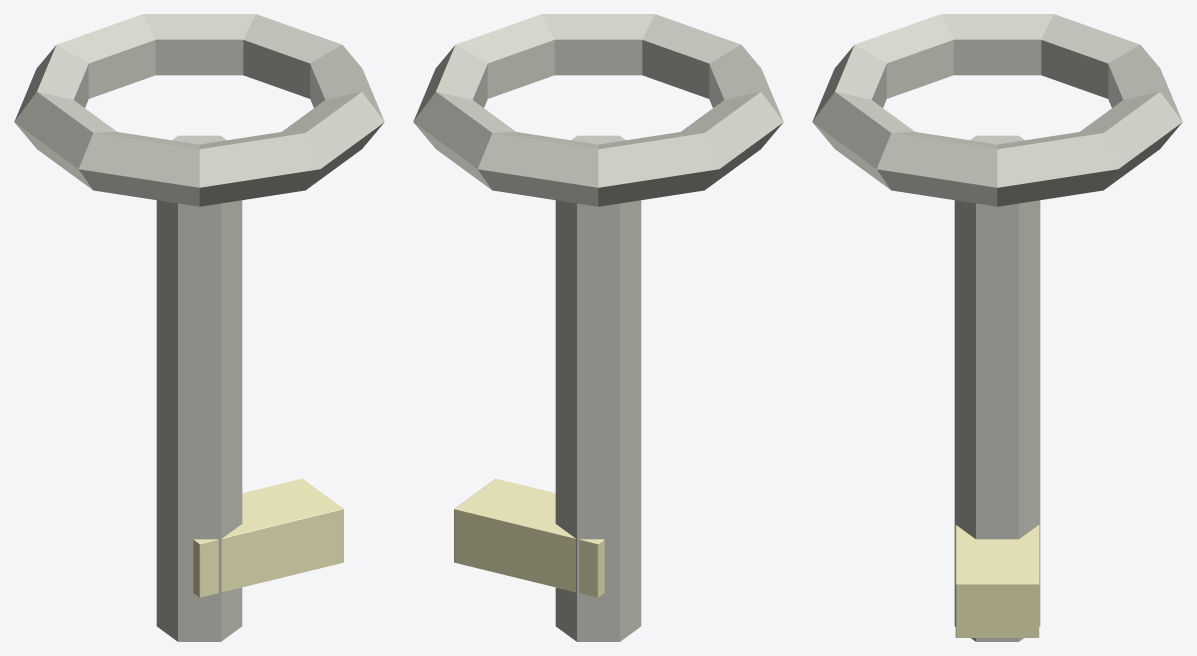
File: key-Crh60DIk.glb
The picture shows the model from 3 angles, left to right: view 1: azimuth 30°, elevation 25°; view 2: azimuth 150°, elevation 25°; view 3: azimuth 270°, elevation 25°; orthographic projection.
Parts seen in each view (by area): view 1: key_bow, key_shaft, key_tooth; view 2: key_bow, key_shaft, key_tooth; view 3: key_bow, key_shaft, key_tooth.
Boxes of the visible parts, x1,y1,x2,y2 form: key_bow: (14, 14, 384, 206); key_shaft: (156, 135, 242, 641); key_tooth: (193, 478, 343, 597); key_bow: (413, 14, 783, 206); key_shaft: (555, 135, 641, 641); key_tooth: (454, 478, 604, 597); key_bow: (812, 14, 1182, 206); key_shaft: (954, 135, 1040, 641); key_tooth: (955, 525, 1039, 637).
Bounding box in the file's own units: 0.1532 × 0.2533 × 0.1556.
